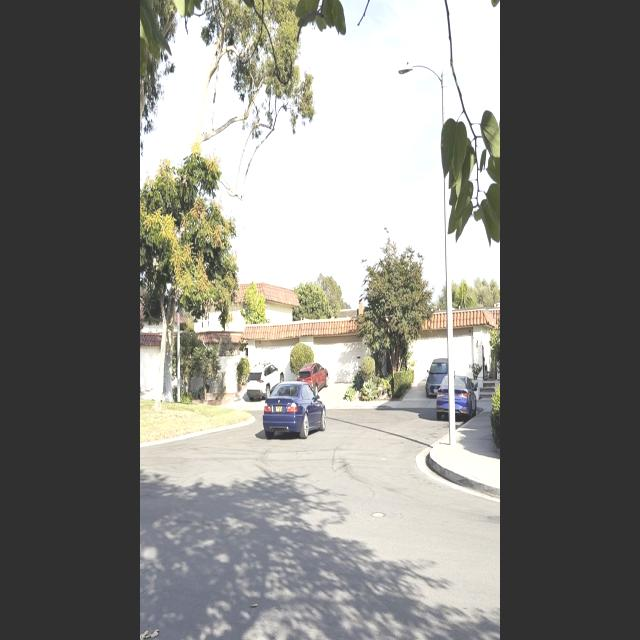Carbeetle: (256, 376, 330, 448)
Civilian: (435, 373, 477, 423), (246, 361, 284, 400), (293, 362, 330, 399), (426, 352, 453, 398)
